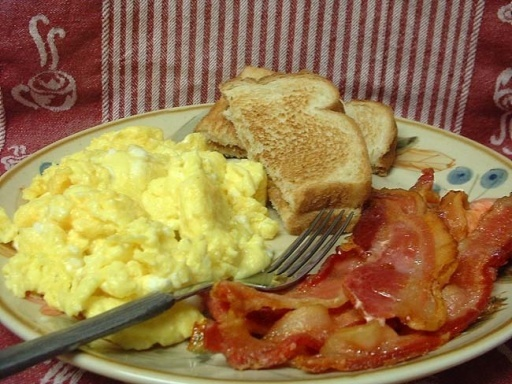background: (0, 39, 410, 224)
